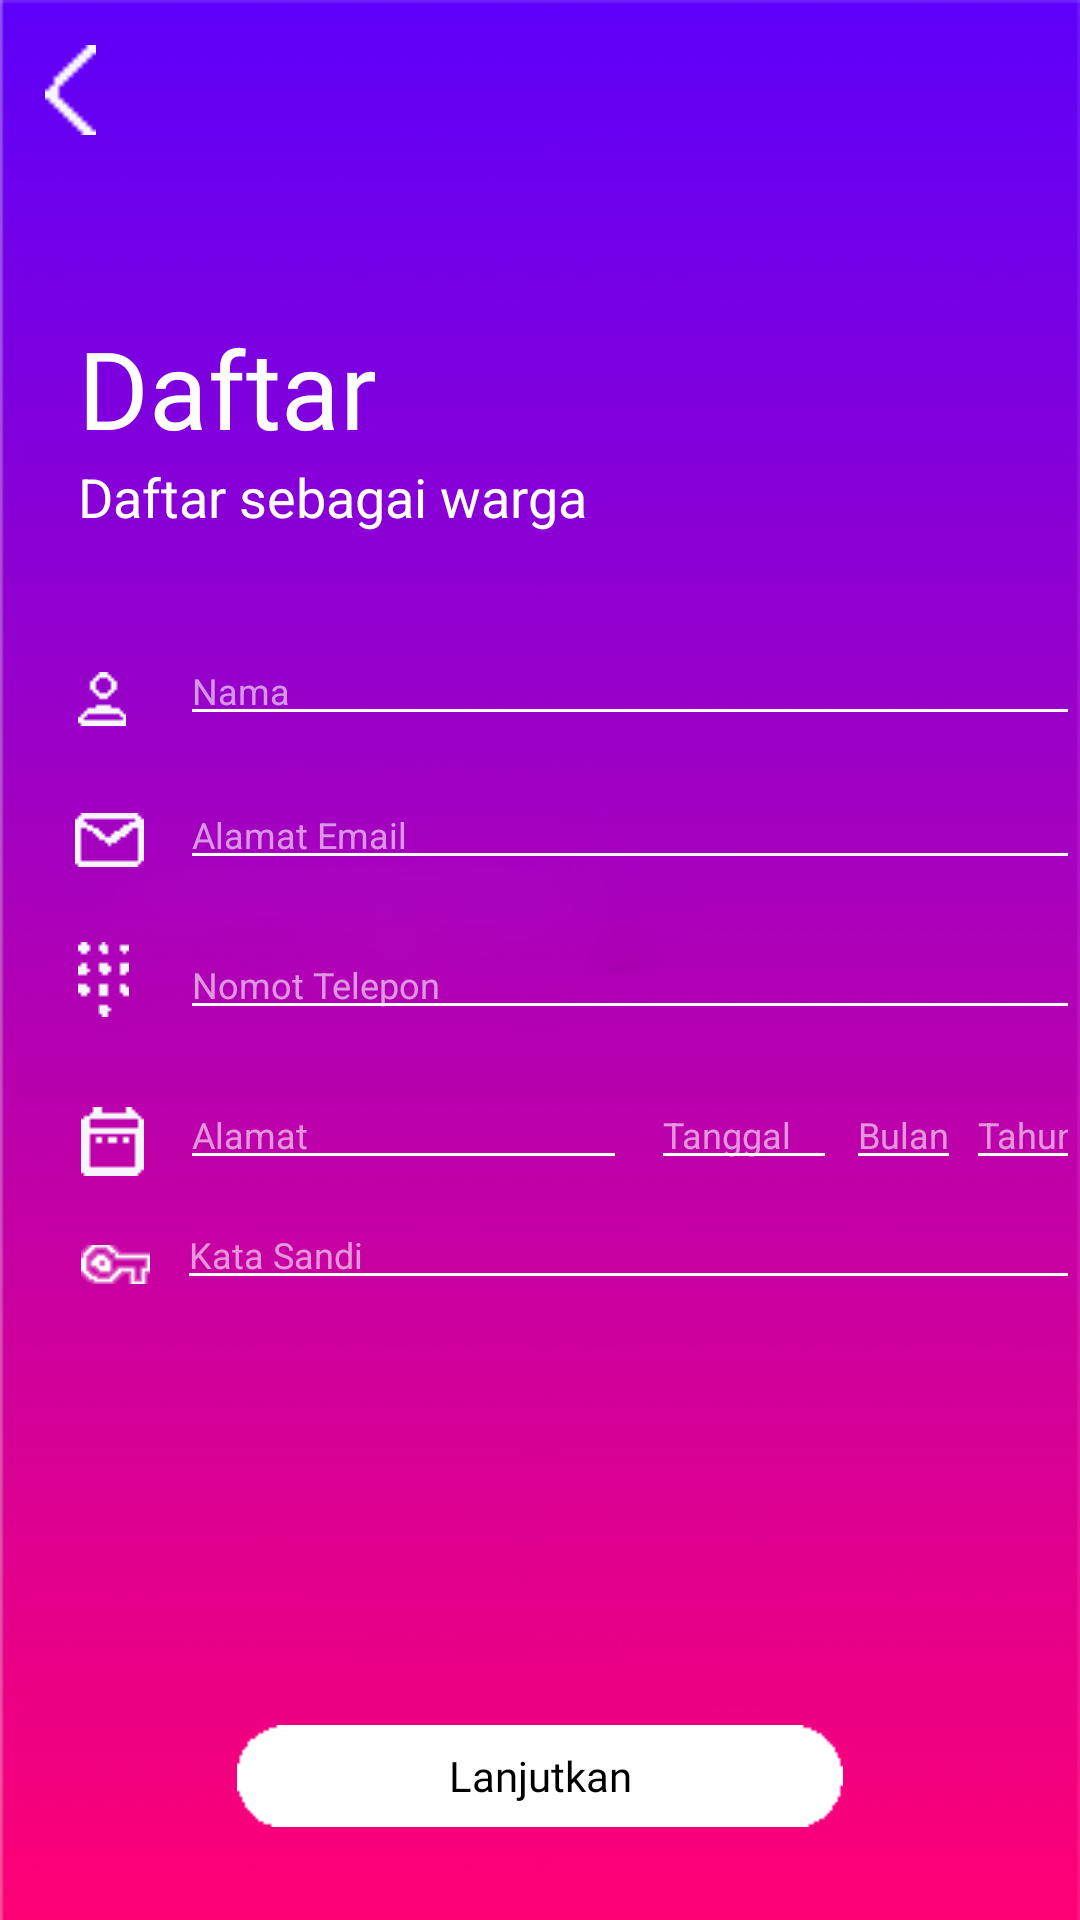

Locate icon controls on the screen. Image size 1080px x 1920px, boxes as detection(x1, y1, x2, y2).
backicon: detection(45, 45, 96, 135)
calendaricon: detection(81, 1107, 144, 1176)
emailicon: detection(75, 813, 144, 867)
passwordicon: detection(81, 1245, 150, 1284)
telpicon: detection(78, 942, 129, 1017)
usericon: detection(78, 672, 126, 726)
